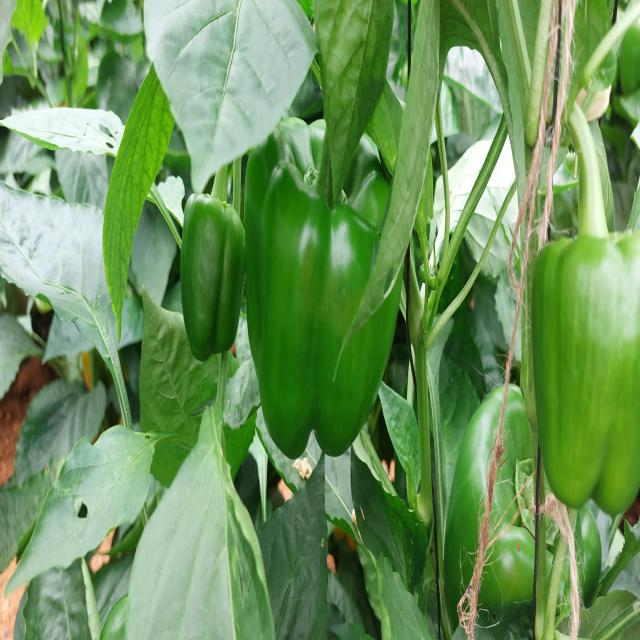Green--Not-ready-to-harvest: (247, 131, 406, 459), (533, 215, 640, 524), (444, 379, 536, 630), (180, 186, 247, 367)
